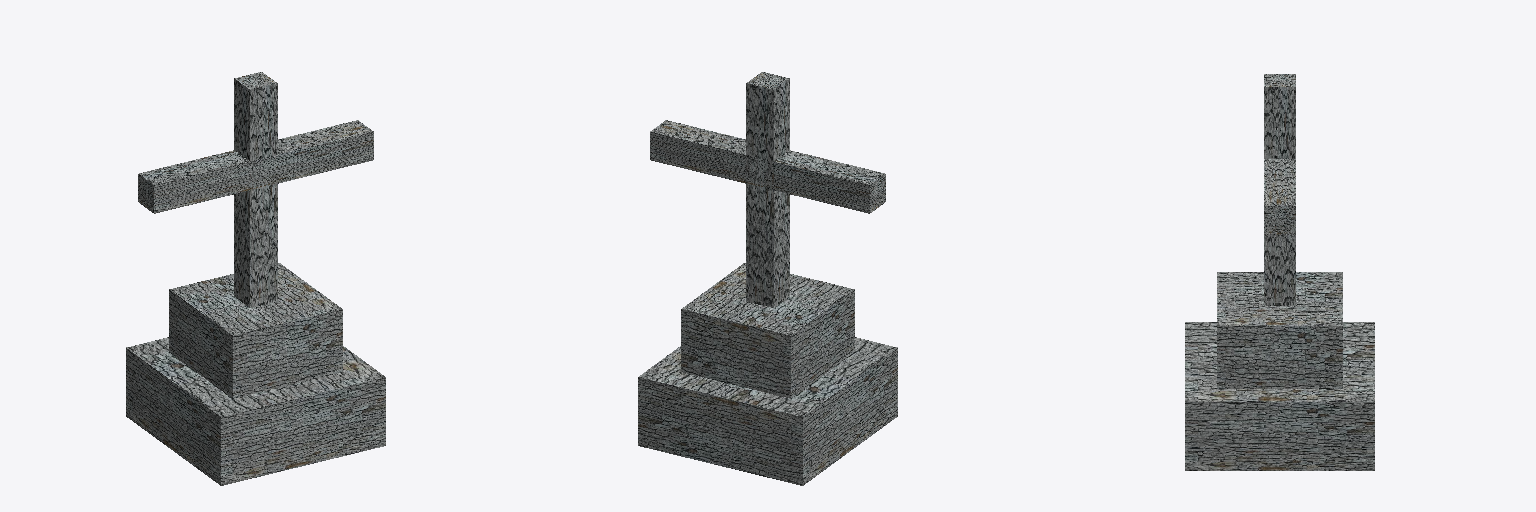
3 views of the same model, side by side, from view 1: azimuth 30°, elevation 25°; view 2: azimuth 150°, elevation 25°; view 3: azimuth 270°, elevation 25° (orthographic).
Size of the model in its own units: 1 by 1.52 by 0.75.
1 materials, 1 textured.